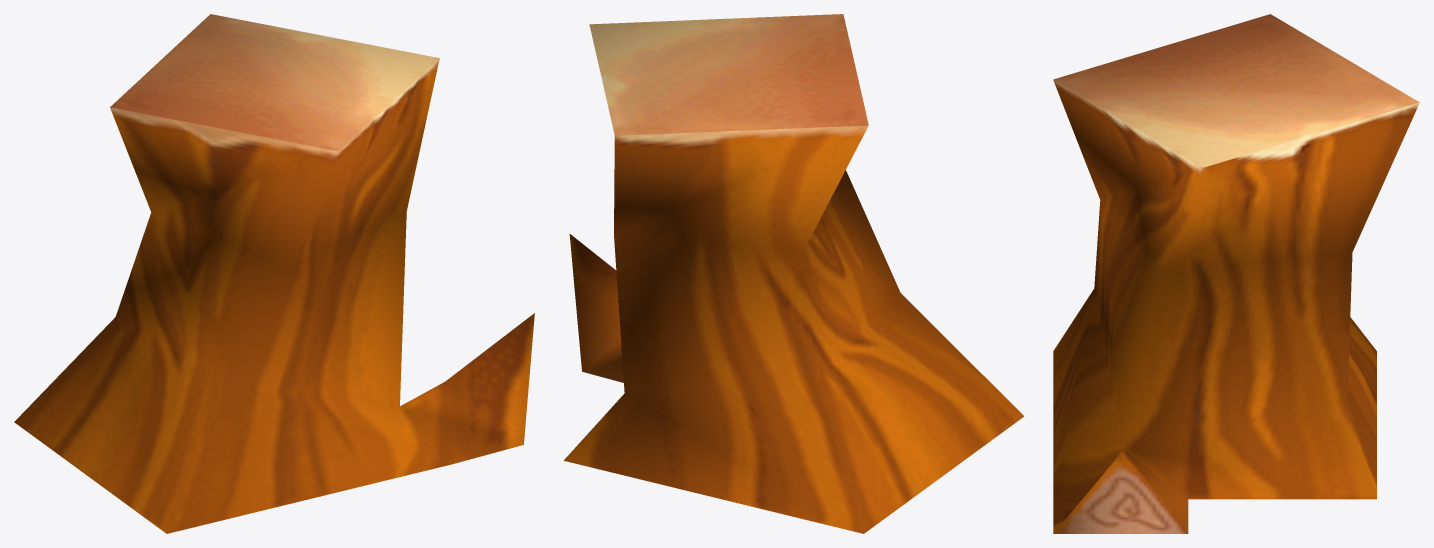
Rendered from sm_shizhuang1.fbx.
The picture shows the model from 3 angles, left to right: view 1: azimuth 30°, elevation 25°; view 2: azimuth 150°, elevation 25°; view 3: azimuth 270°, elevation 25°; orthographic projection. The views are drawn at different scales.
Visible parts, largest first — view 1: sm_shizhuang1; view 2: sm_shizhuang1; view 3: sm_shizhuang1.
Boxes of the visible parts, x1,y1,x2,y2 form: sm_shizhuang1: (14,14,534,533); sm_shizhuang1: (564,14,1024,533); sm_shizhuang1: (1053,14,1419,533).
Size of the model in its own units: 2179 by 1771 by 1631.
